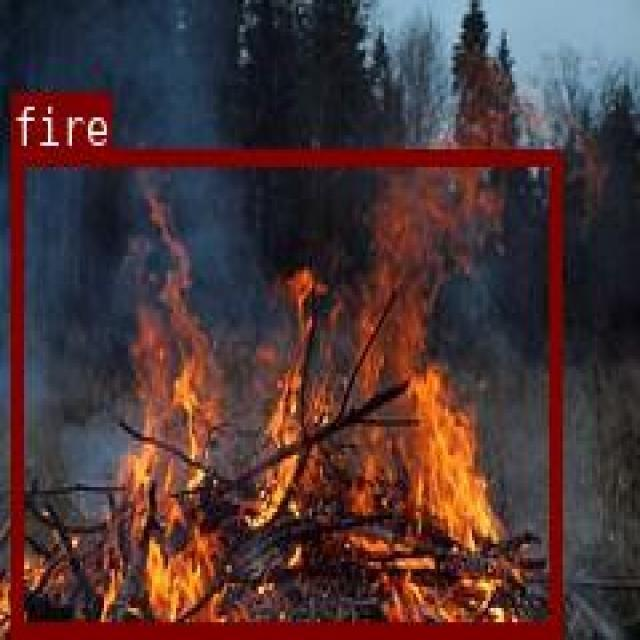fire: (9, 147, 558, 636)
